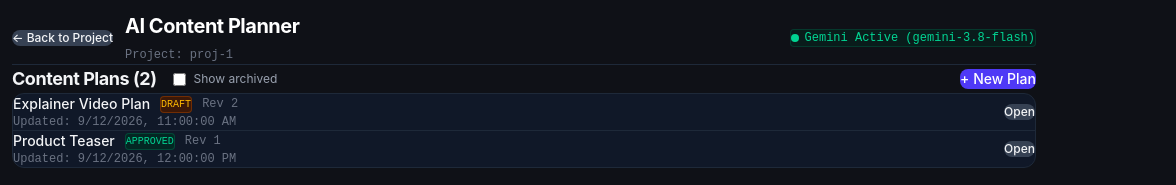
Test: PlannerView Component › opens ContentPlanEditor when plan is selected and mounts editor view
This screenshot has width=1176, height=185.
Click the button "Open" in the row of "9/12/2026, 11:00:00 AM" at (1020, 112), box 1004,104 -> 1035,120
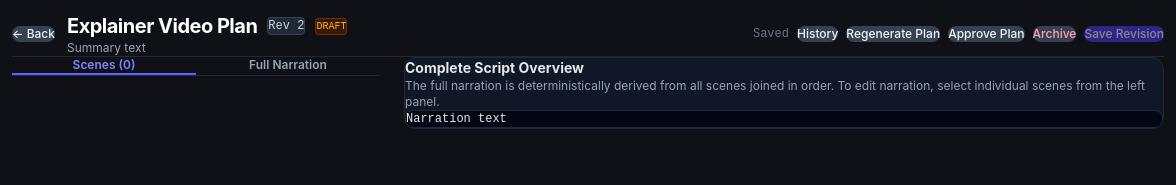
Now the button "Save Revision" is shown, box 1084,26 -> 1164,42
Now the button "Regenerate Plan" is shown, box 846,26 -> 940,42
